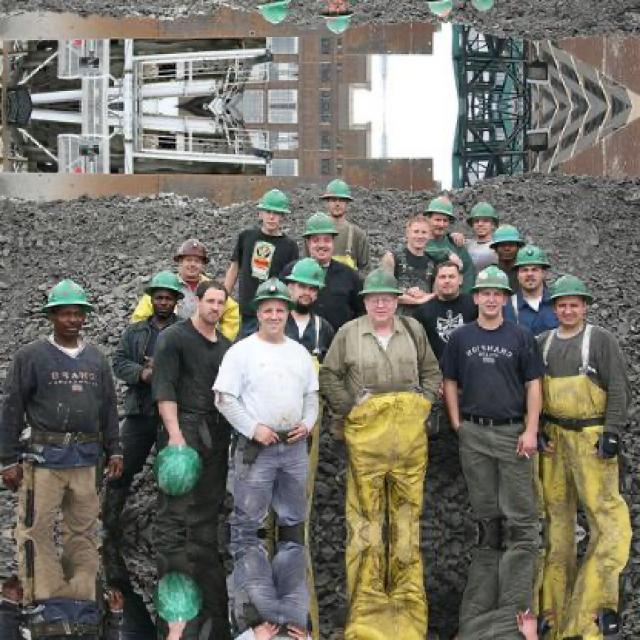2: (318, 265, 440, 532), (3, 273, 123, 532), (220, 273, 320, 529), (444, 265, 536, 532), (538, 278, 631, 530), (149, 281, 237, 532), (106, 268, 185, 529), (318, 535, 442, 639), (2, 535, 123, 639), (134, 240, 238, 344), (220, 538, 322, 638), (537, 536, 631, 638), (445, 535, 537, 639), (150, 535, 238, 639), (231, 184, 306, 293), (263, 259, 346, 356), (106, 538, 186, 638), (285, 216, 363, 308), (306, 177, 376, 264), (412, 264, 480, 352), (503, 247, 566, 339), (386, 216, 445, 290), (420, 196, 465, 259), (463, 201, 508, 262), (306, 0, 377, 37), (491, 220, 531, 284), (230, 0, 308, 31), (420, 0, 466, 19), (463, 0, 509, 14)
helmet: (43, 276, 95, 339), (252, 278, 296, 334), (358, 266, 400, 322), (549, 273, 594, 325), (474, 265, 511, 316), (289, 258, 326, 308), (148, 268, 185, 315), (306, 211, 337, 261), (258, 187, 292, 231), (515, 247, 548, 291), (488, 222, 523, 261), (177, 238, 211, 278), (465, 199, 500, 236), (324, 178, 356, 215), (323, 0, 355, 37), (428, 197, 458, 236), (257, 0, 292, 28), (426, 0, 459, 17), (465, 0, 502, 15)
